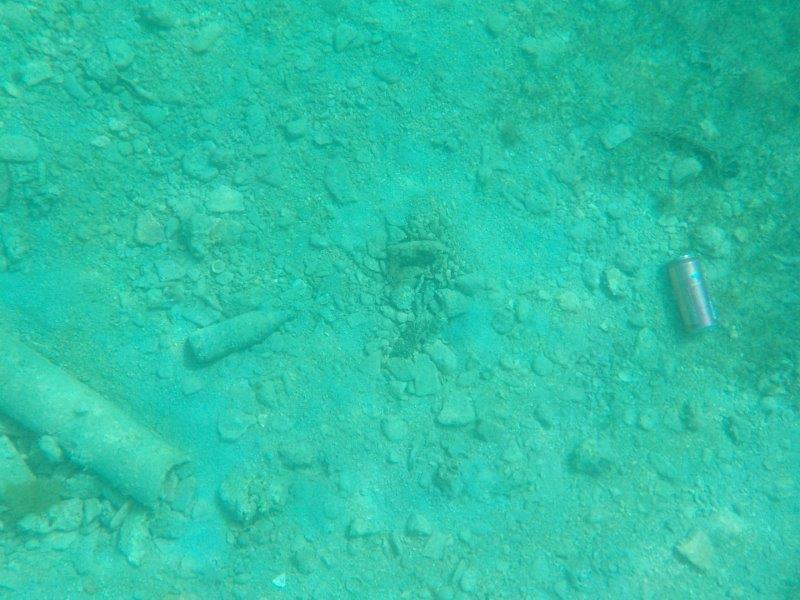bottle: (184, 302, 303, 369)
